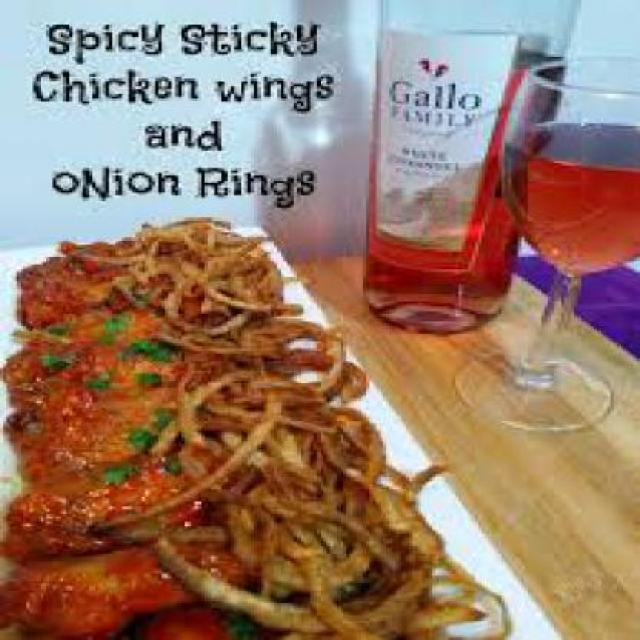chicken wings: (16, 222, 238, 638)
onion rings: (128, 204, 498, 636)
